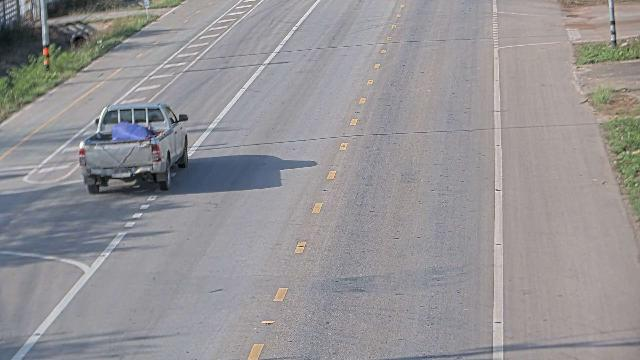pickup-truck: (78, 101, 189, 194)
